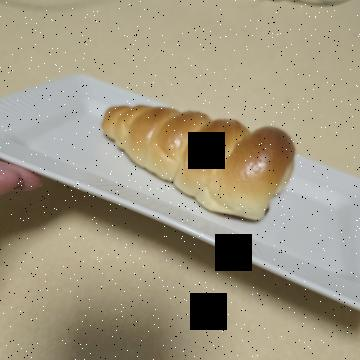cream horn: (92, 56, 241, 284)
